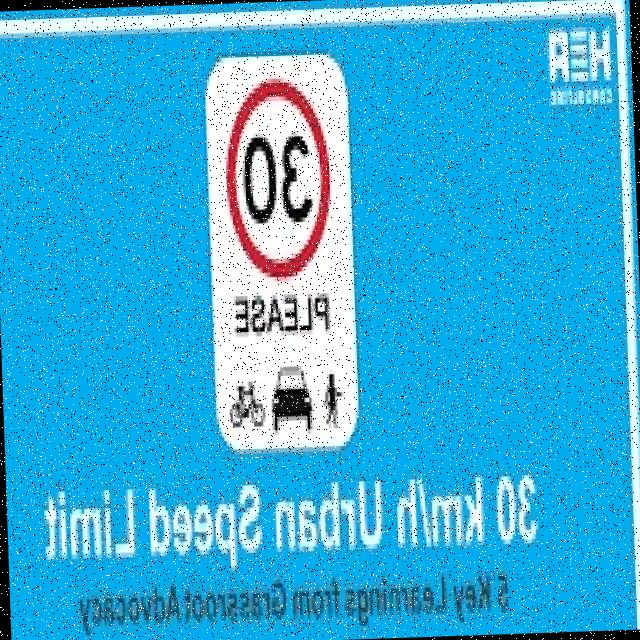speed_limit_30: (220, 68, 337, 280)
